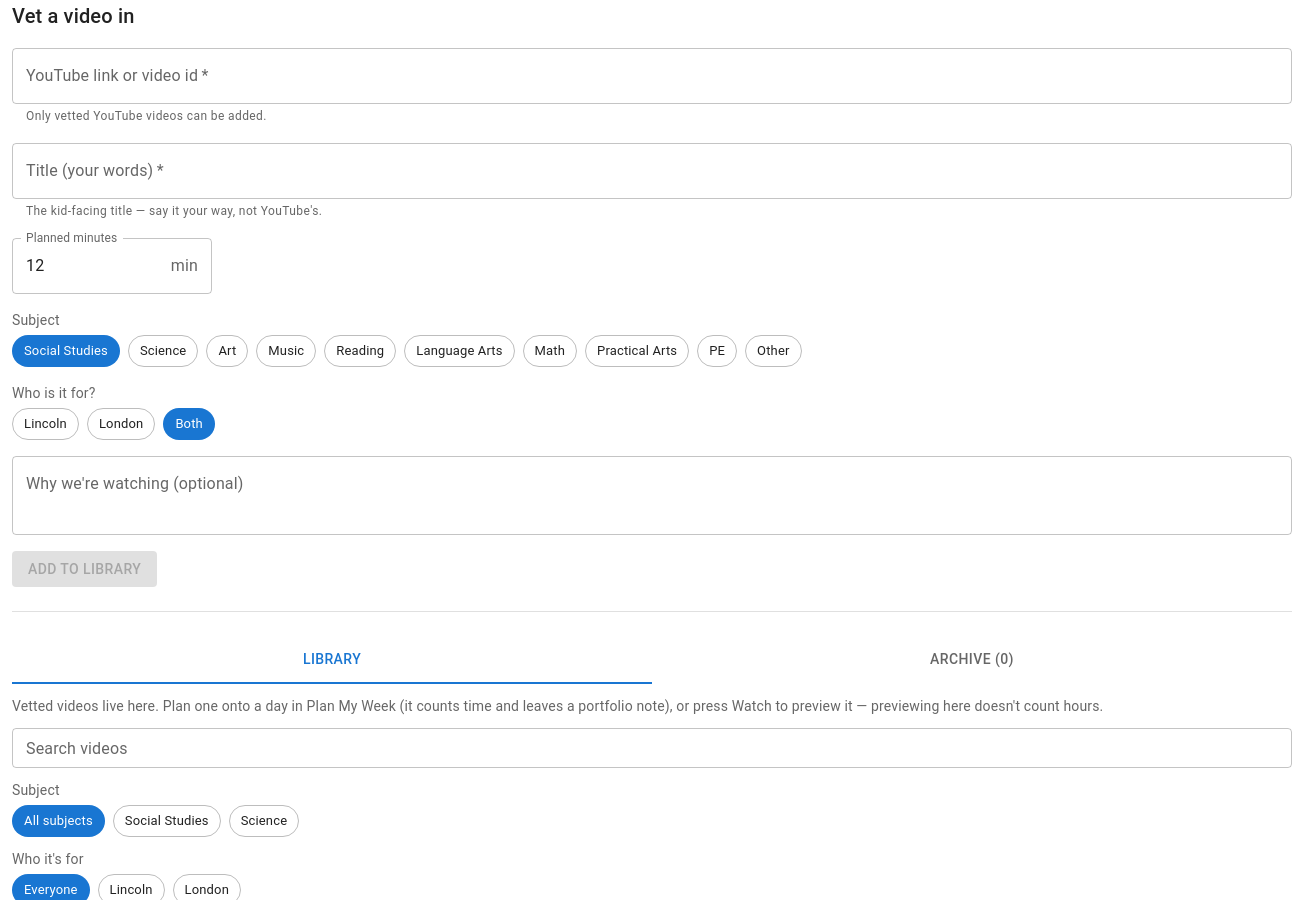
Scenario: WatchLibraryTab search + filter + grouping (FEAT-139) › a filtered-empty shelf says which filter is hiding things
Type "zzzz" into the field labelled "Search videos" at (652, 748), box [12, 728, 1292, 768]
(page scrolled)
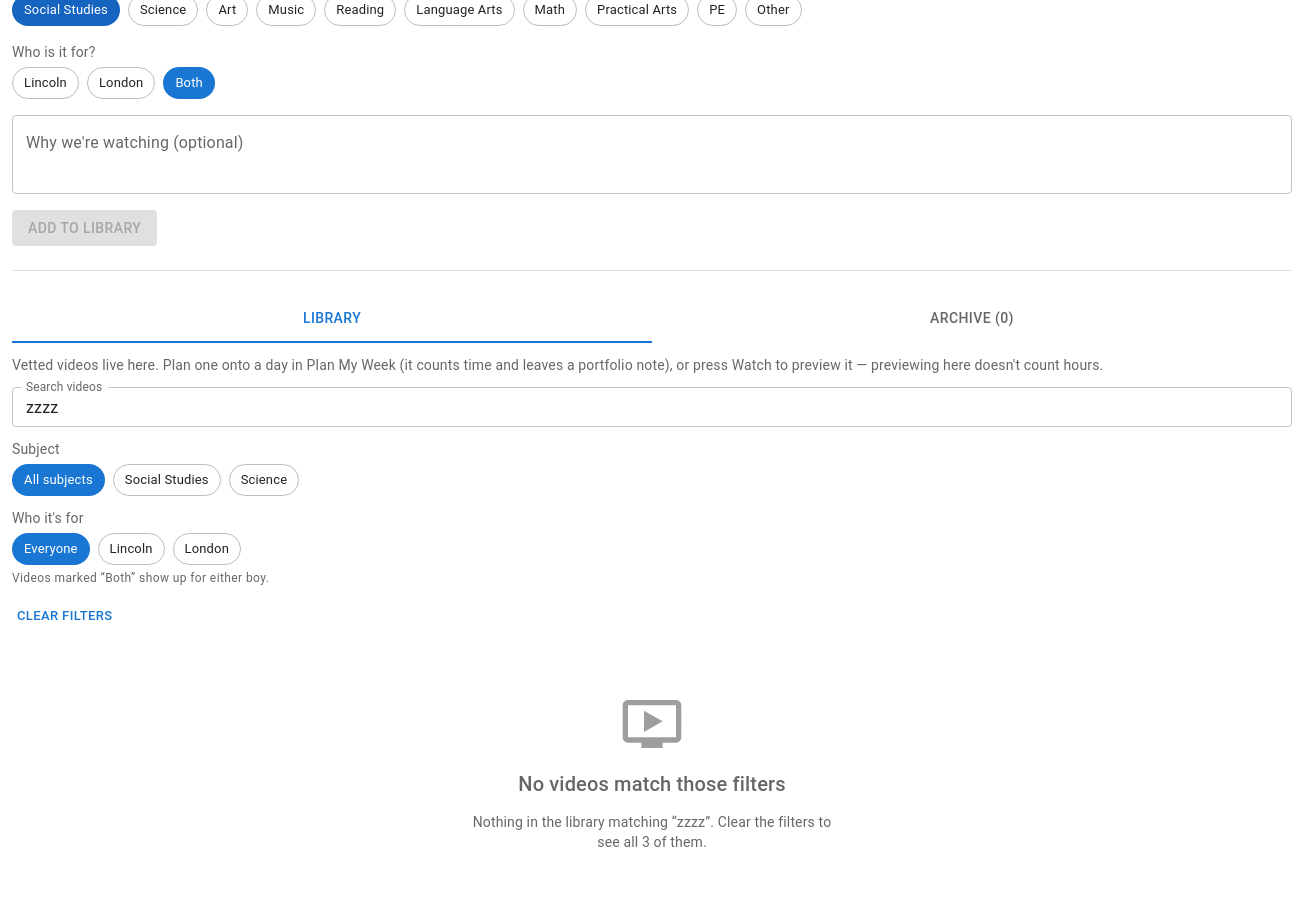
Now the heading "No videos match those filters" is shown, box [518, 768, 786, 800]
Now the text "“zzzz”" is shown, box [473, 814, 831, 850]
